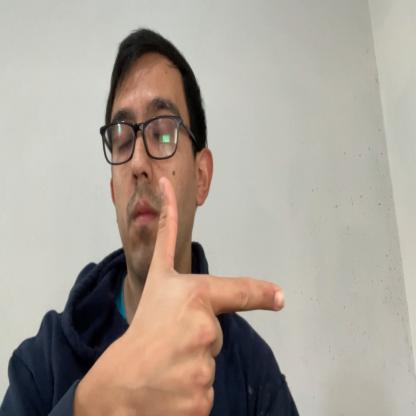G: (138, 176, 285, 416)
